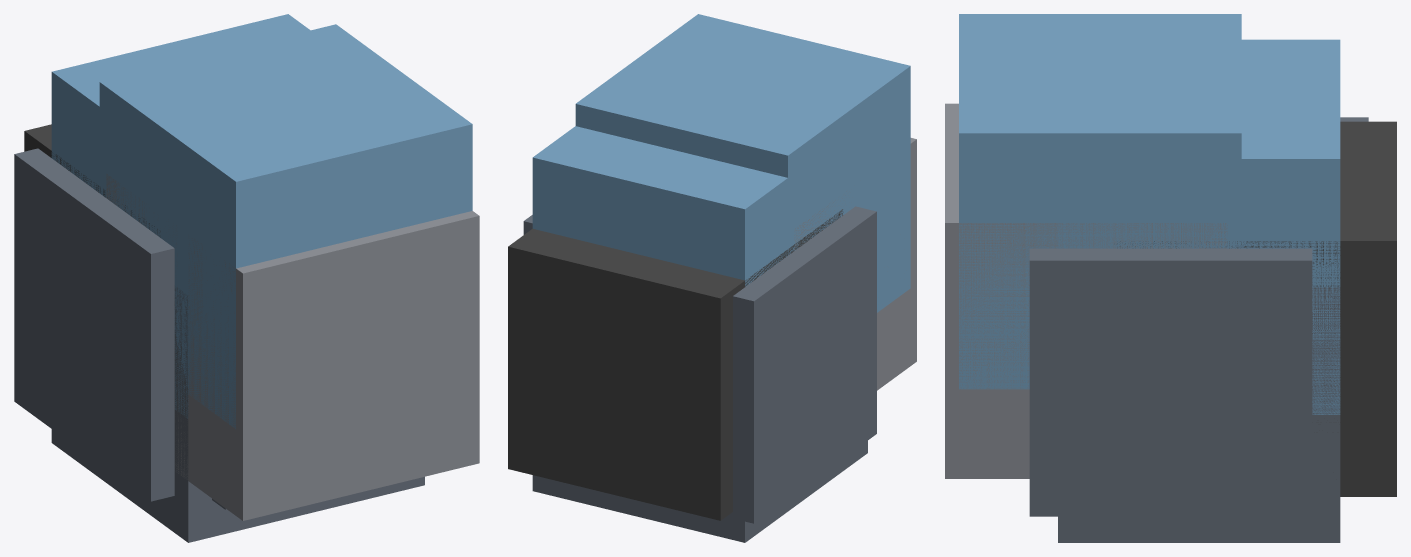
The model's file is hum_cyclist.glb.
3 views of the same model, side by side, from view 1: azimuth 30°, elevation 25°; view 2: azimuth 150°, elevation 25°; view 3: azimuth 270°, elevation 25° (orthographic). The views are drawn at different scales.
Parts seen in each view (by area): view 1: world; view 2: world; view 3: world.
Part boxes in pixels (left/top/right/bottom): world: left=14, top=14, right=479, bottom=542; world: left=508, top=14, right=916, bottom=542; world: left=945, top=14, right=1396, bottom=542.
Bounding box in the file's own units: 1.2 × 1.62 × 1.6.
